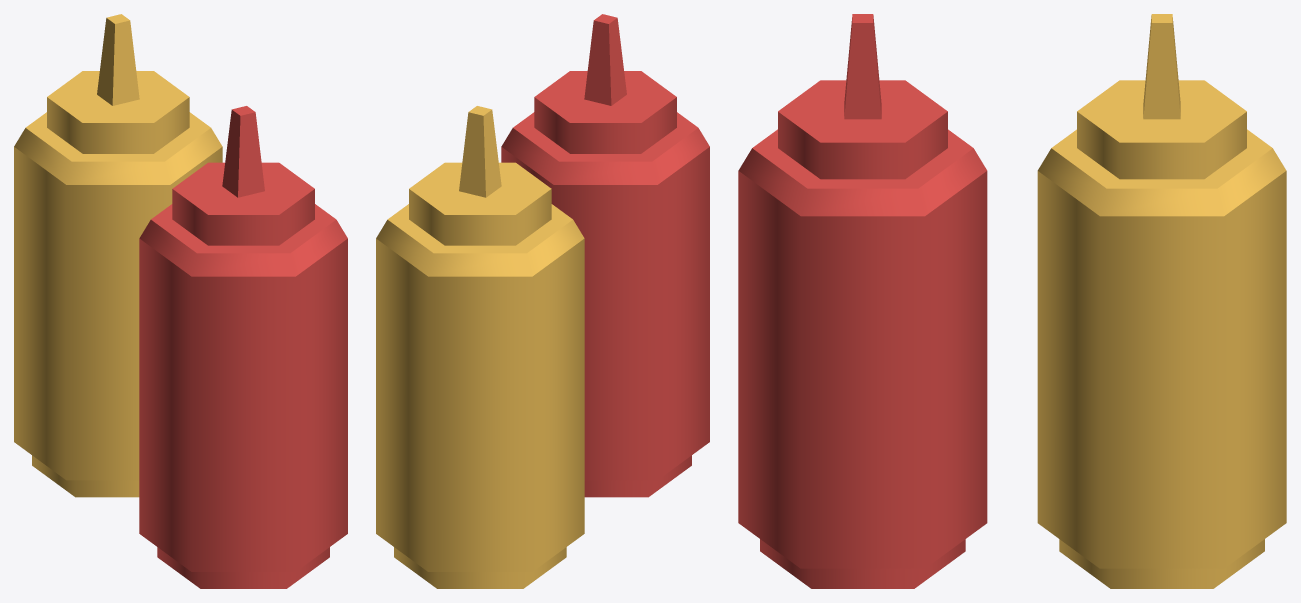
The model's file is Bottle Sauce.fbx.
The picture shows the model from 3 angles, left to right: view 1: azimuth 30°, elevation 25°; view 2: azimuth 150°, elevation 25°; view 3: azimuth 270°, elevation 25°; orthographic projection. The views are drawn at different scales.
Parts seen in each view (by area): view 1: bottleKetchup, bottleMusterd; view 2: bottleMusterd, bottleKetchup; view 3: bottleKetchup, bottleMusterd.
Part boxes in pixels (<box>): bottleKetchup: <box>139,106,347,588</box>; bottleMusterd: <box>14,14,222,497</box>; bottleMusterd: <box>376,106,584,588</box>; bottleKetchup: <box>501,14,709,497</box>; bottleKetchup: <box>738,14,987,588</box>; bottleMusterd: <box>1037,14,1286,588</box>.
Size of the model in its own units: 14.41 by 39.31 by 36.64.
